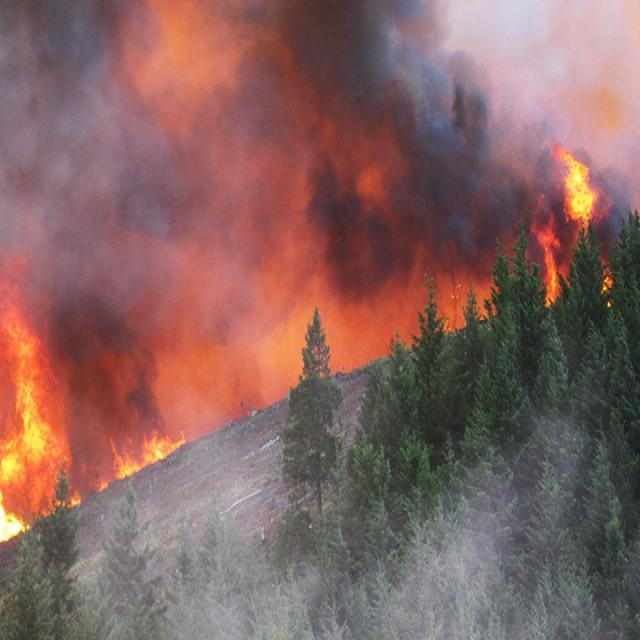Fire: (0, 251, 82, 554), (102, 414, 194, 491), (558, 138, 595, 232)
Smoke: (2, 0, 634, 336)
